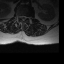CCS_normal: (22, 13, 24, 23)
LFS_stenosis: (27, 13, 29, 20)
LLS_stenosis: (24, 13, 27, 21)
RFS_normal: (18, 13, 20, 20)
RLS_normal: (20, 13, 22, 21)
